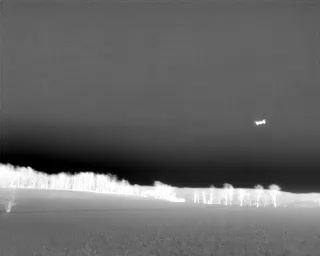DRONE: (251, 114, 271, 131)
